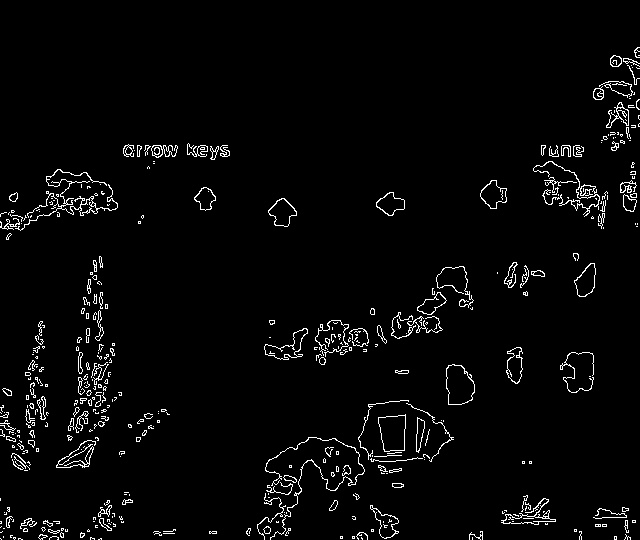left: (471, 173, 515, 217), (365, 186, 414, 224)
up: (263, 193, 305, 232), (187, 182, 222, 217)
